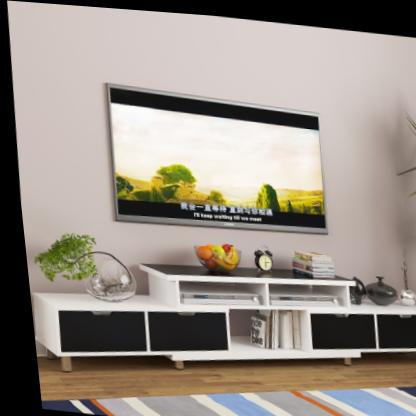TV stand: (27, 254, 416, 371)
